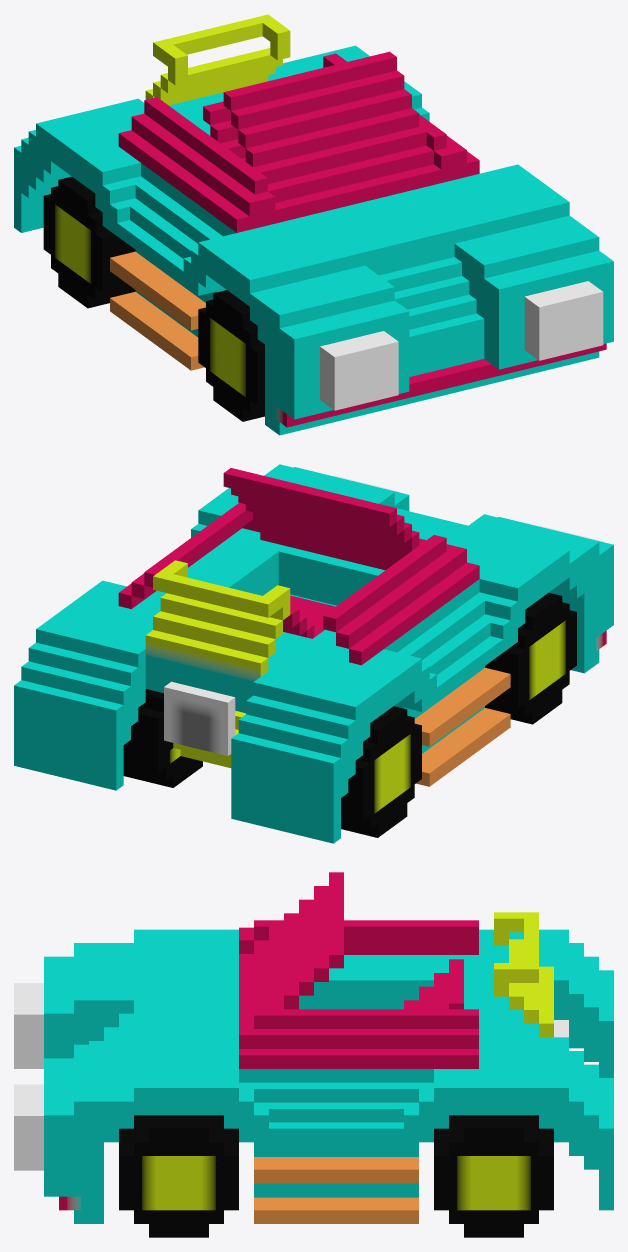
Rendered from Car_35.fbx.
The picture shows the model from 3 angles, top to bottom: view 1: azimuth 30°, elevation 25°; view 2: azimuth 150°, elevation 25°; view 3: azimuth 270°, elevation 25°; orthographic projection.
Parts seen in each view (by area): view 1: Car_35; view 2: Car_35; view 3: Car_35.
Part boxes in pixels (x1,y1,x2,y2): Car_35: (14,14,613,435); Car_35: (14,464,613,843); Car_35: (14,872,613,1237).
Size of the model in its own units: 25 by 18 by 40.
1 material, 1 textured.
